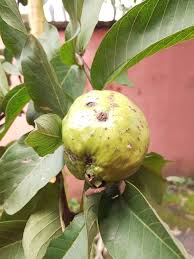guava: (9, 59, 175, 246)
